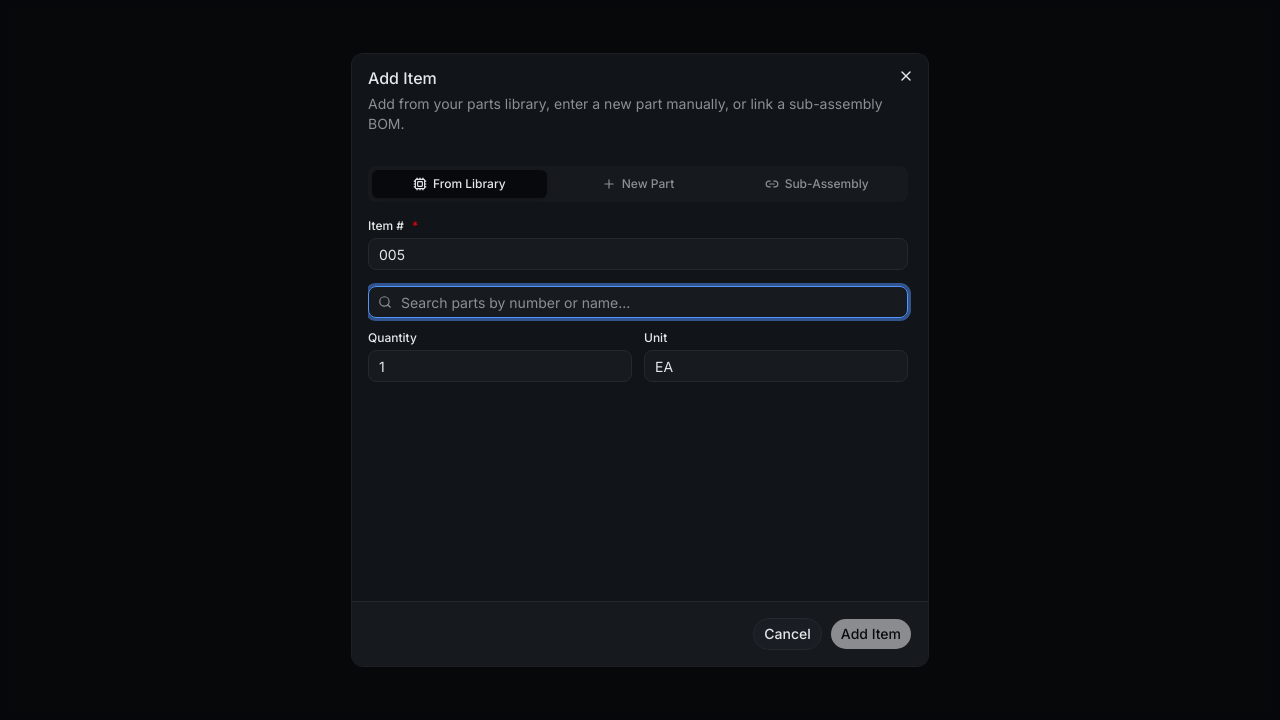
Test case: AddItemDialog — sub-assembly mode › says so when there is nothing to nest
Step 1. Click the button "Sub-Assembly" → [817, 184], box [729,170,904,198]
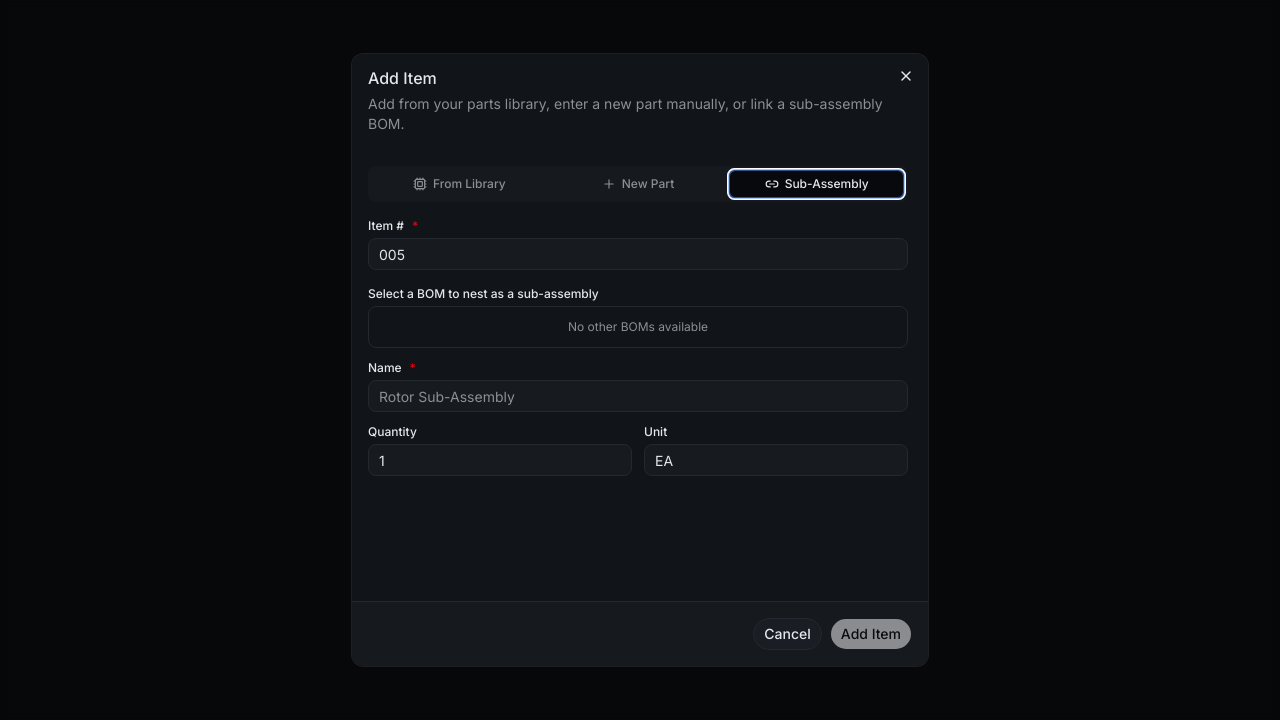
Result: the text "No other BOMs available" is shown at [568,319,708,334]
